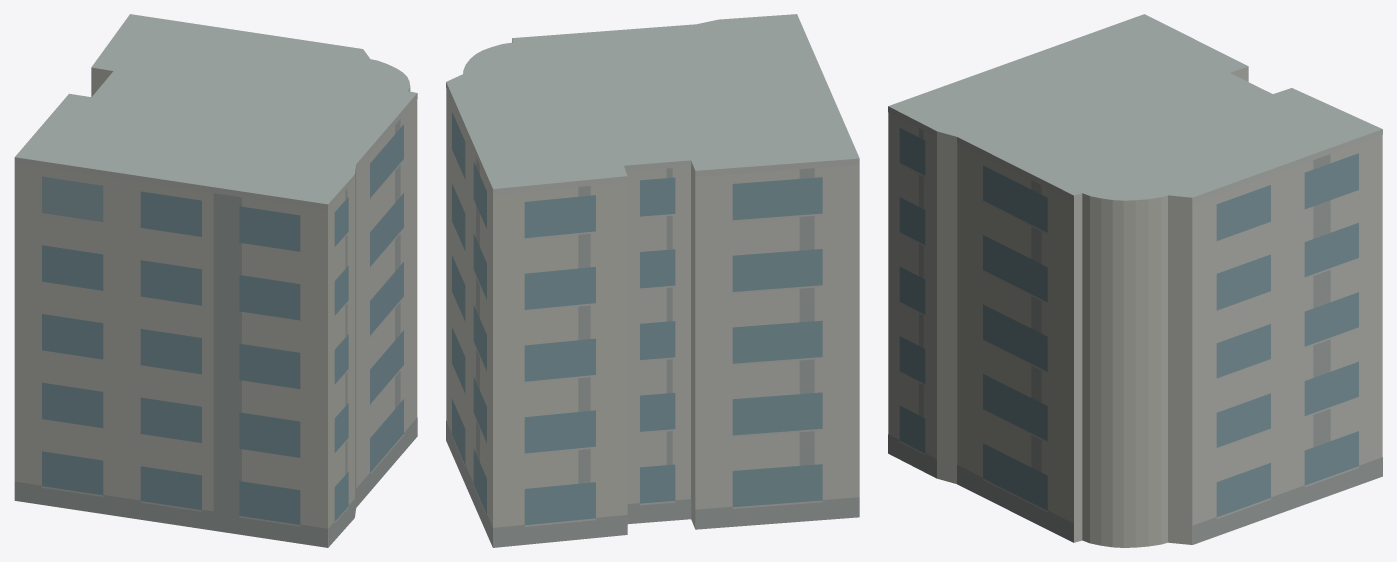
Rendered from survey-upis-32860593.glb.
3 renders of one model, left to right at view 1: azimuth 30°, elevation 25°; view 2: azimuth 150°, elevation 25°; view 3: azimuth 270°, elevation 25°, orthographic. The views are drawn at different scales.
Visible parts, largest first — view 1: survey-upis-32860593.tmp; view 2: survey-upis-32860593.tmp; view 3: survey-upis-32860593.tmp.
Boxes of the visible parts, box(x1,y1,x2,y2) form: survey-upis-32860593.tmp: box(14, 14, 417, 547); survey-upis-32860593.tmp: box(446, 14, 859, 547); survey-upis-32860593.tmp: box(888, 14, 1382, 547).
Bounding box in the file's own units: 16.25 × 14.1 × 18.21.
